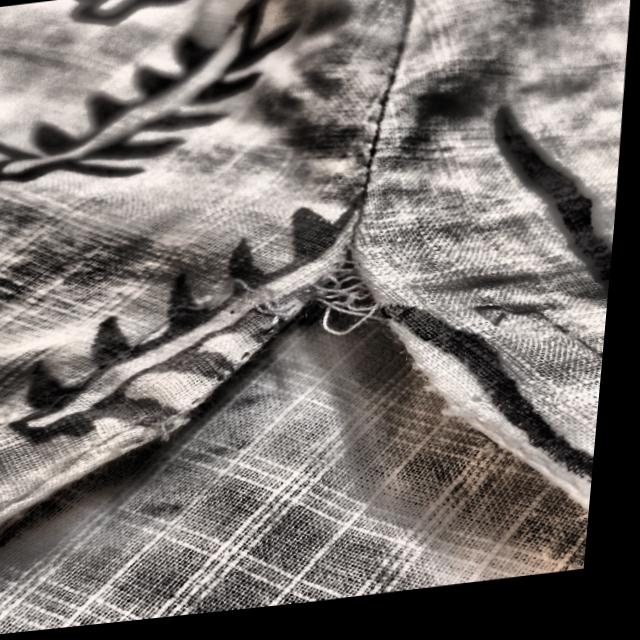Stitch: (192, 240, 405, 361)
